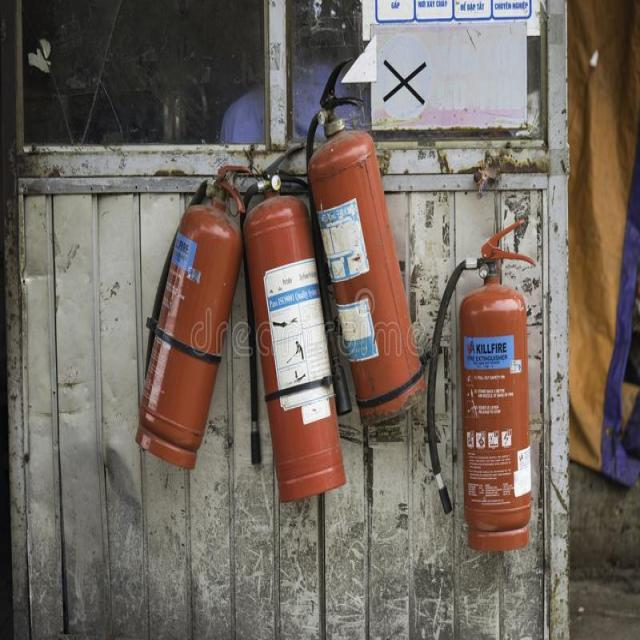fire_extinguisher: (301, 49, 429, 431), (238, 137, 348, 511), (423, 213, 541, 554), (132, 157, 250, 473)
